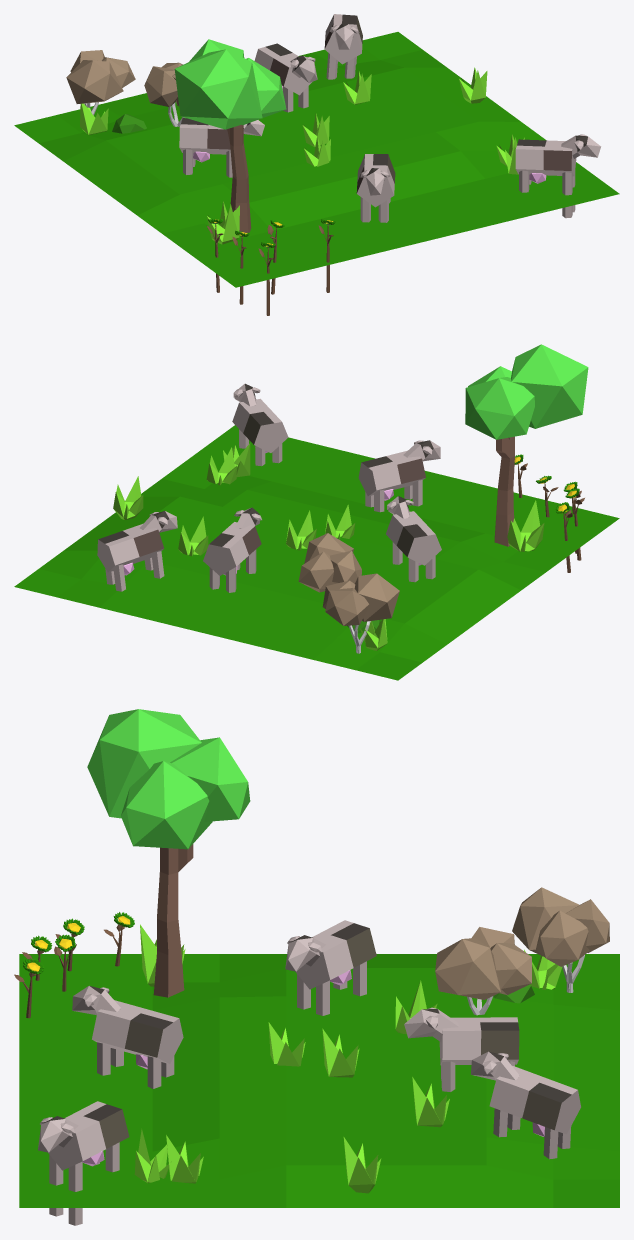
The model's file is krowy.fbx.
3 views of the same model, one above another, from view 1: azimuth 30°, elevation 25°; view 2: azimuth 150°, elevation 25°; view 3: azimuth 270°, elevation 25° (orthographic). The views are drawn at different scales.
Parts seen in each view (by area): view 1: Grid.008; view 2: Grid.008; view 3: Grid.008.
Boxes of the visible parts, left/top/right/bottom form: Grid.008: left=14, top=14, right=619, bottom=315; Grid.008: left=14, top=344, right=619, bottom=680; Grid.008: left=14, top=709, right=619, bottom=1225.
Size of the model in its own units: 1023 by 593 by 1009.
